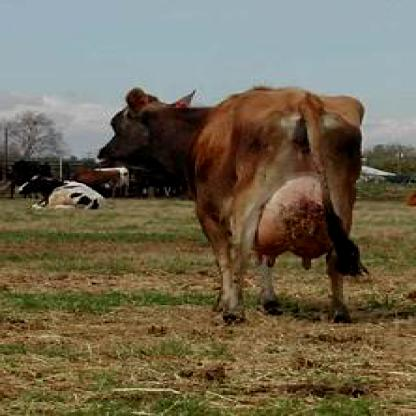cow: (94, 88, 365, 324)
